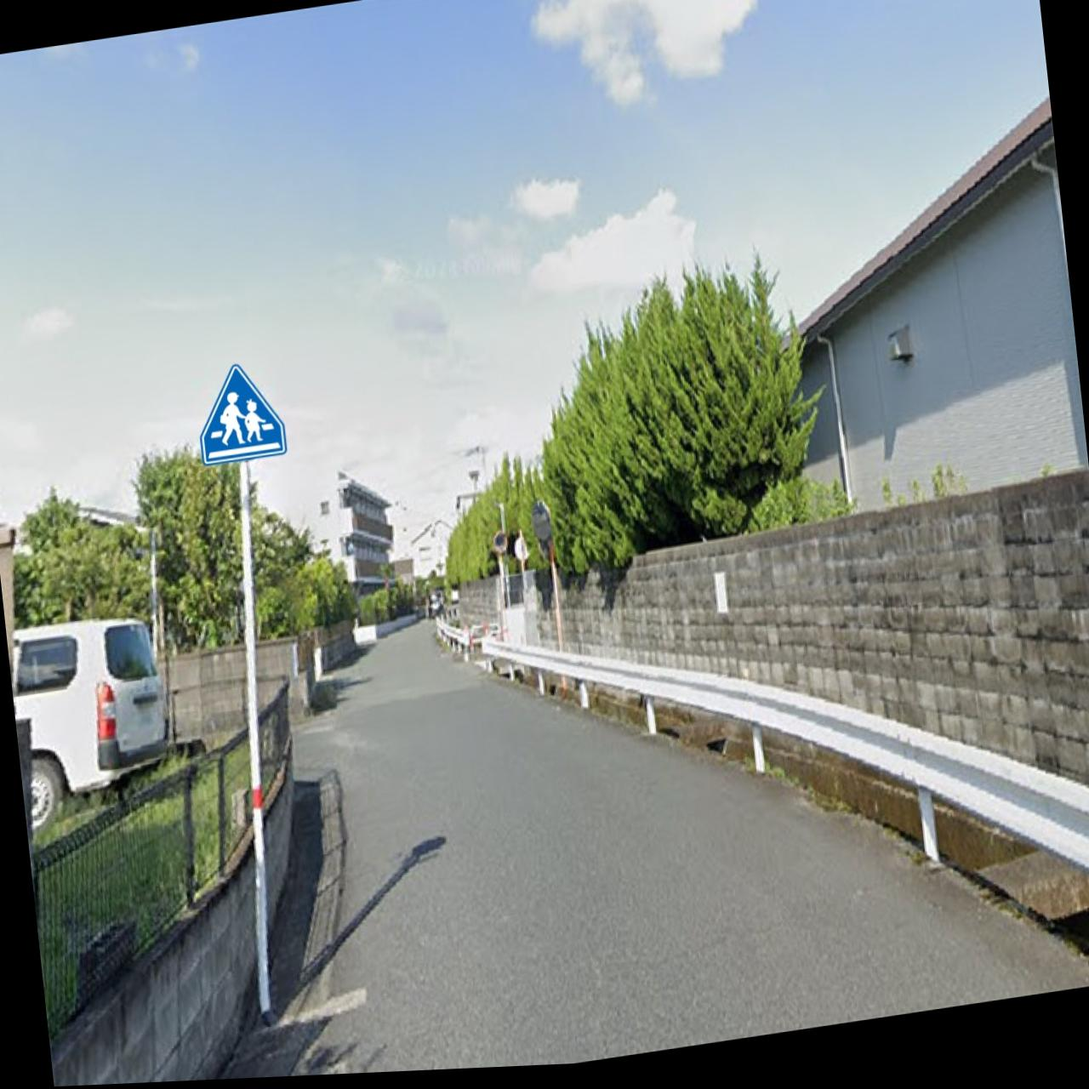cone: (97, 206, 302, 669)
